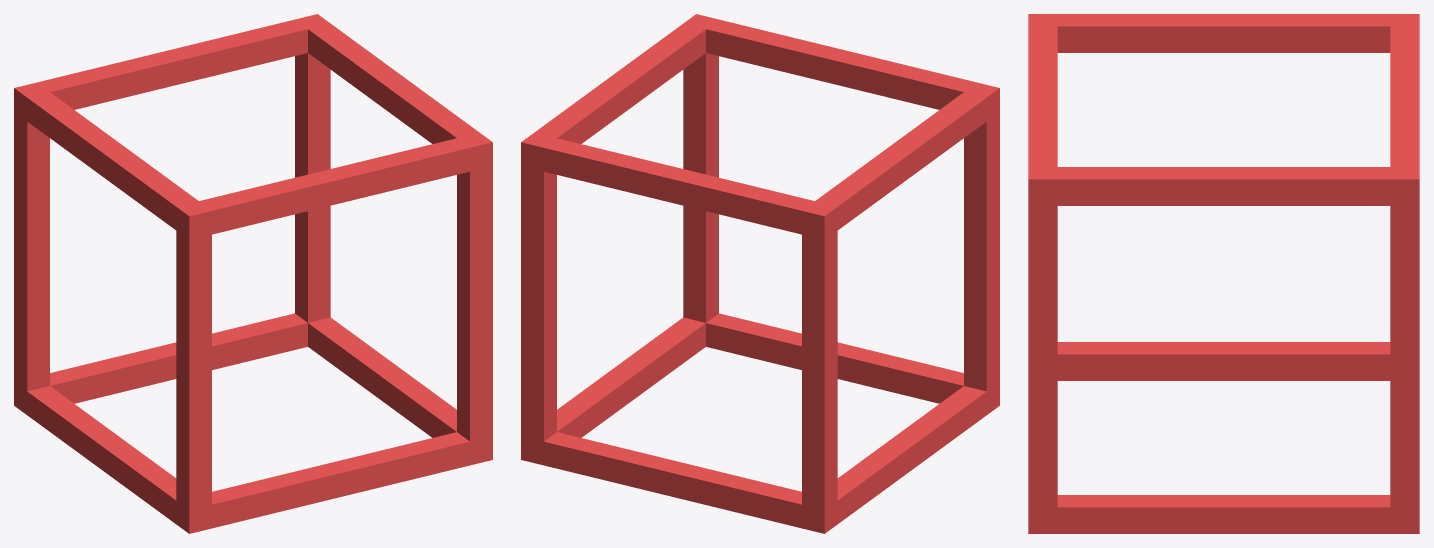
The model's file is Catch.glb.
3 renders of one model, left to right at view 1: azimuth 30°, elevation 25°; view 2: azimuth 150°, elevation 25°; view 3: azimuth 270°, elevation 25°, orthographic. The views are drawn at different scales.
Visible parts, largest first — view 1: Cube; view 2: Cube; view 3: Cube.
Boxes of the visible parts, x1,y1,x2,y2 form: Cube: (14,14,492,533); Cube: (521,14,999,533); Cube: (1028,14,1419,533).
Size of the model in its own units: 2 by 2 by 2.
